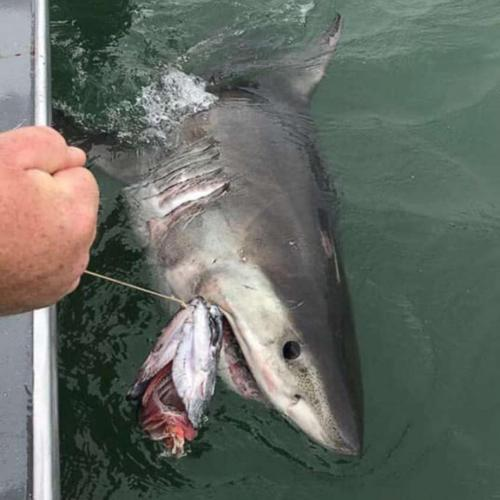shark-endangered: (76, 25, 397, 470)
